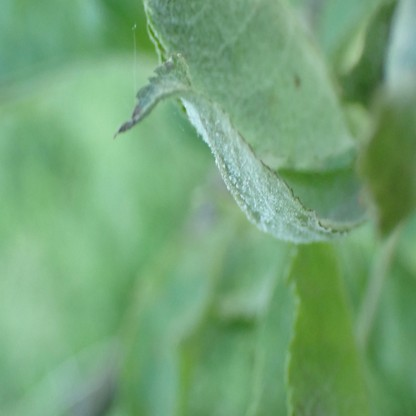powdery_mildew: (114, 53, 347, 246), (144, 2, 395, 163)
